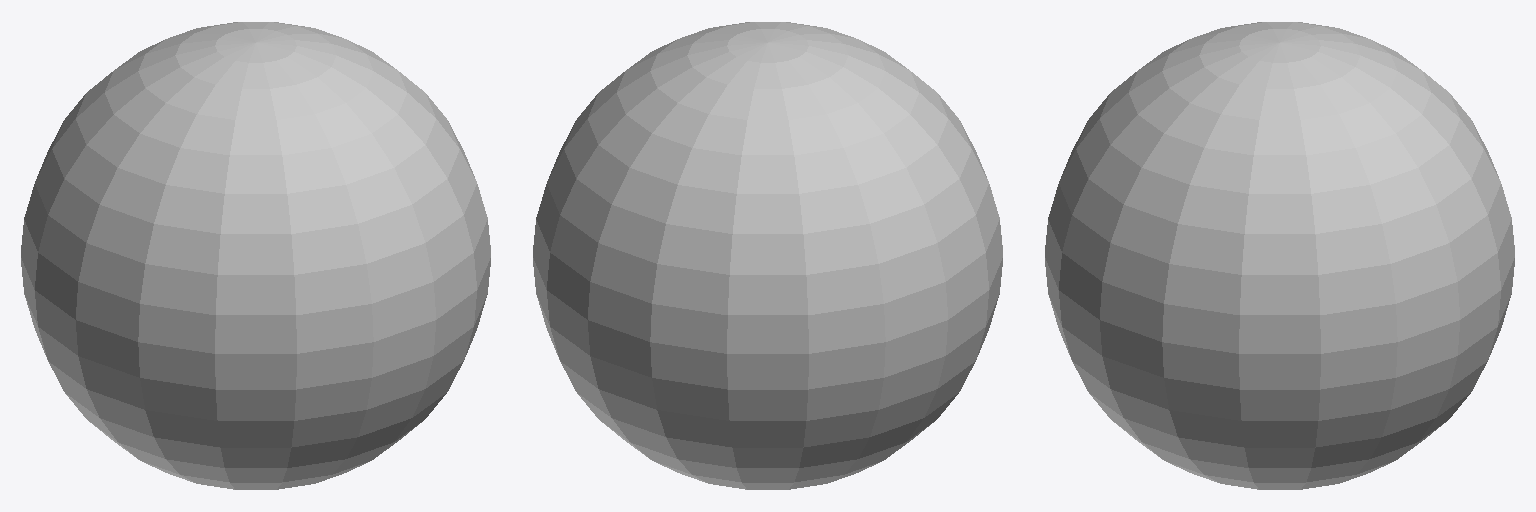
Rendered from side sphere.obj.
3 views of the same model, side by side, from view 1: azimuth 30°, elevation 25°; view 2: azimuth 150°, elevation 25°; view 3: azimuth 270°, elevation 25° (orthographic).
Visible parts, largest first — view 1: Sphere; view 2: Sphere; view 3: Sphere.
Boxes of the visible parts, x1=… form: Sphere: x1=21, y1=22, x2=490, y2=489; Sphere: x1=533, y1=22, x2=1002, y2=489; Sphere: x1=1045, y1=22, x2=1514, y2=489.
Size of the model in its own units: 1.97 by 2 by 2.